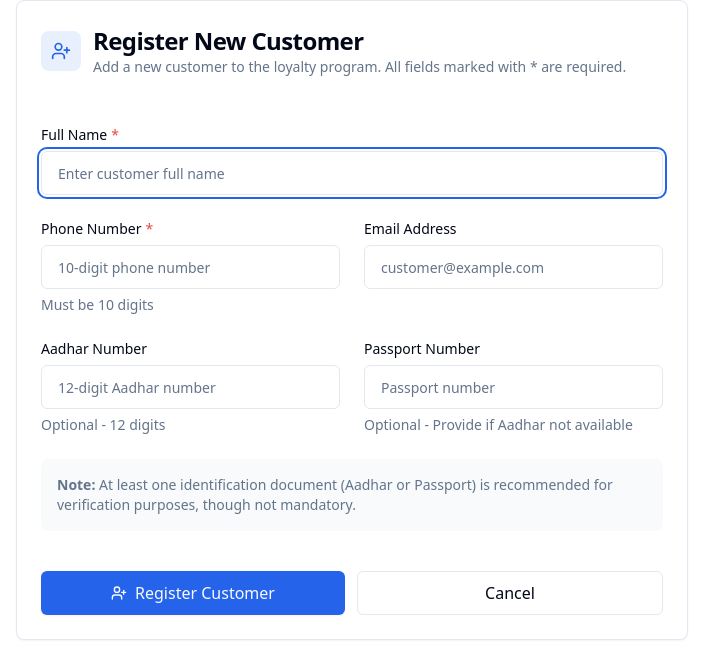
Test: RegistrationForm › should format Aadhar number input (digits only, max 12)
Type "1234567890123456" into the field labelled "Aadhar Number". click: point(190, 387)
box: top-left (41, 365), bottom-right (340, 409)
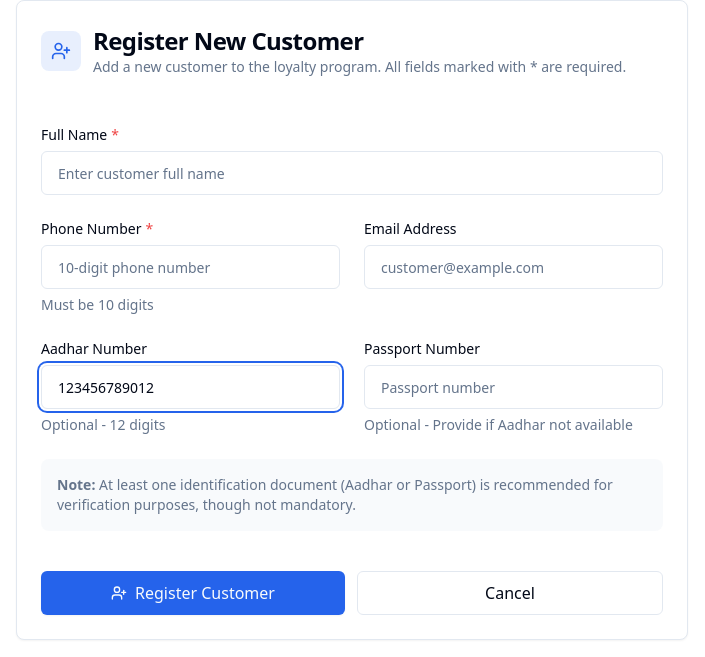
Expected: the field labelled "Aadhar Number" holds "123456789012", top-left (41, 365), bottom-right (340, 409)
